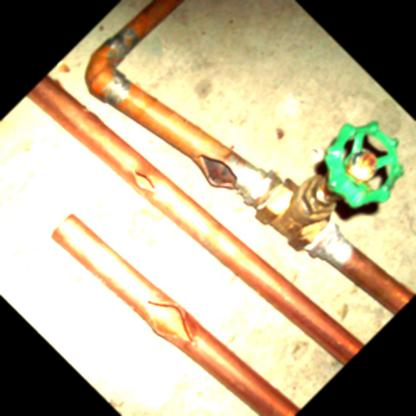burst: (145, 292, 202, 350), (198, 156, 248, 195), (131, 170, 159, 198)
